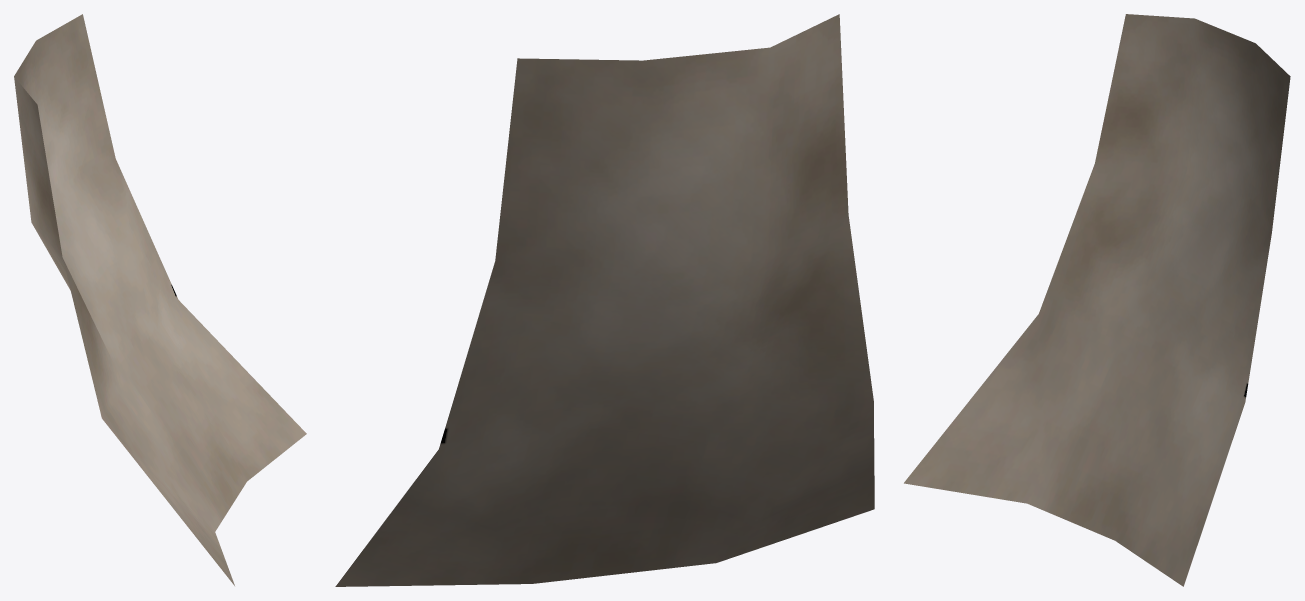
The model's file is web_10.fbx.
The picture shows the model from 3 angles, left to right: view 1: azimuth 30°, elevation 25°; view 2: azimuth 150°, elevation 25°; view 3: azimuth 270°, elevation 25°; orthographic projection. The views are drawn at different scales.
Parts seen in each view (by area): view 1: mine_tileset/mine_web01_mat; view 2: mine_tileset/mine_web01_mat; view 3: mine_tileset/mine_web01_mat.
Part boxes in pixels (box(x1,y1,x2,y2)): mine_tileset/mine_web01_mat: box(14, 14, 306, 585); mine_tileset/mine_web01_mat: box(335, 14, 874, 586); mine_tileset/mine_web01_mat: box(904, 14, 1290, 586).
Bounding box in the file's own units: 4.29 × 5.84 × 4.79.
